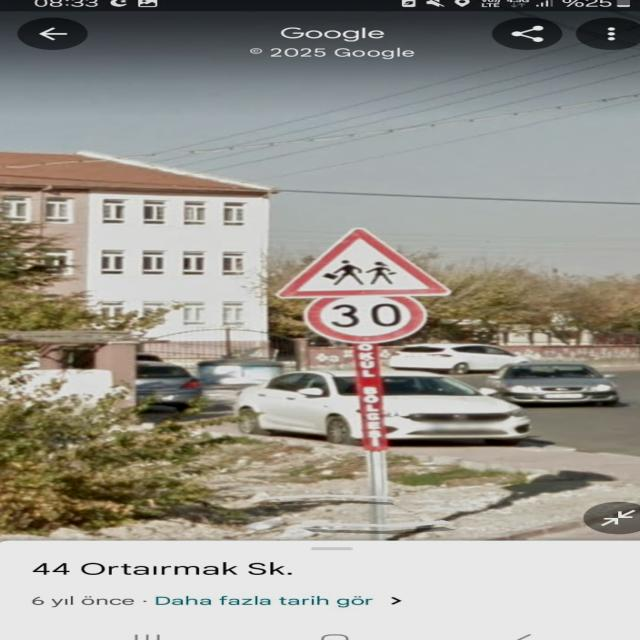okul_gecidi: (274, 224, 459, 298)
